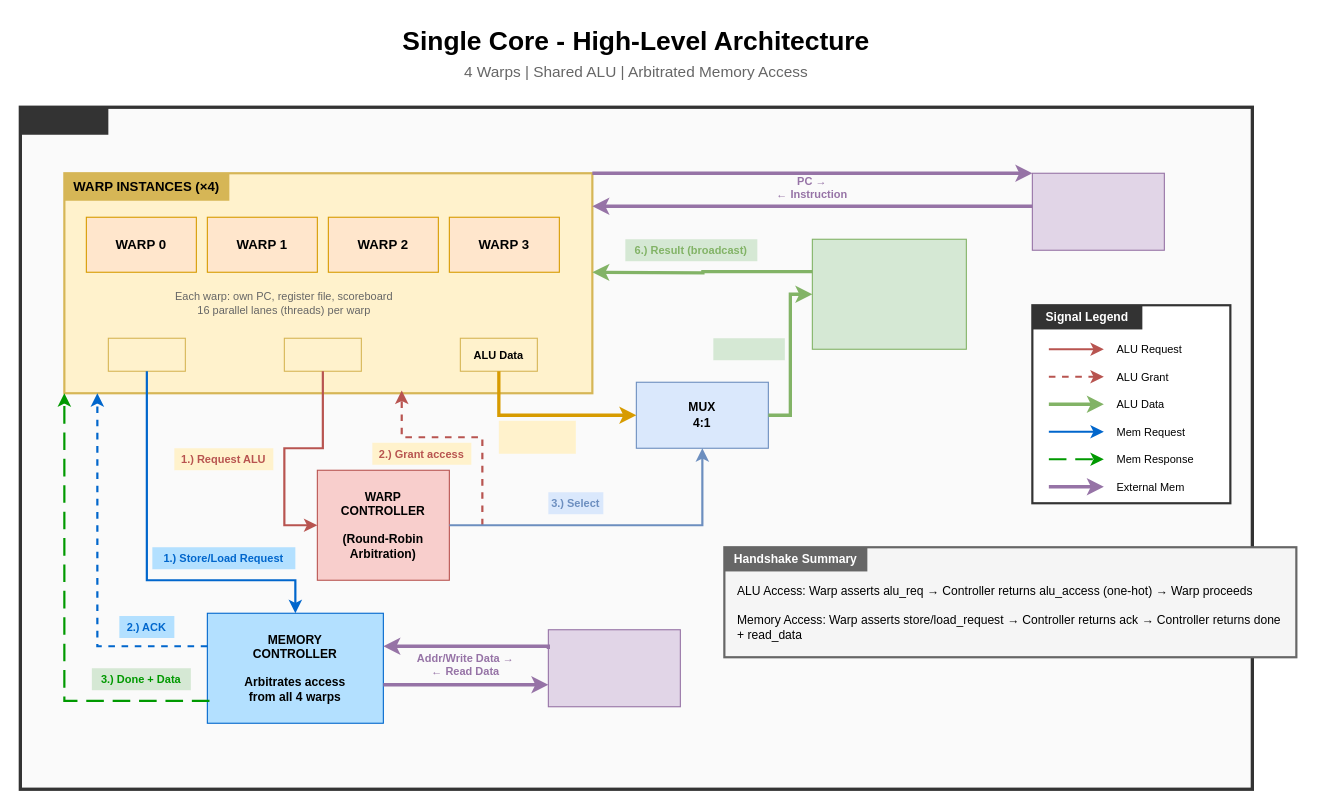
Image size: 1317x810. Some labels were removed from this diagram. The centre of each missing label's shape, as x and y in pixels:
"4.) Operands (all warps)" goes at point (536, 436).
"5.) Selected" goes at point (748, 349).
"ALU Req" goes at point (322, 354).
"DMEM (Data Memory)" goes at point (613, 668).
"GPU_top" goes at point (64, 120).
"IMEM, P er Warp (Instruction Memory)" goes at point (1097, 211).
"Mem Req" goes at point (146, 354).
"SHARED ALU (16 Parallel Lanes) ADD, SUB, MUL, AND, OR, XOR, etc." goes at point (888, 293).
